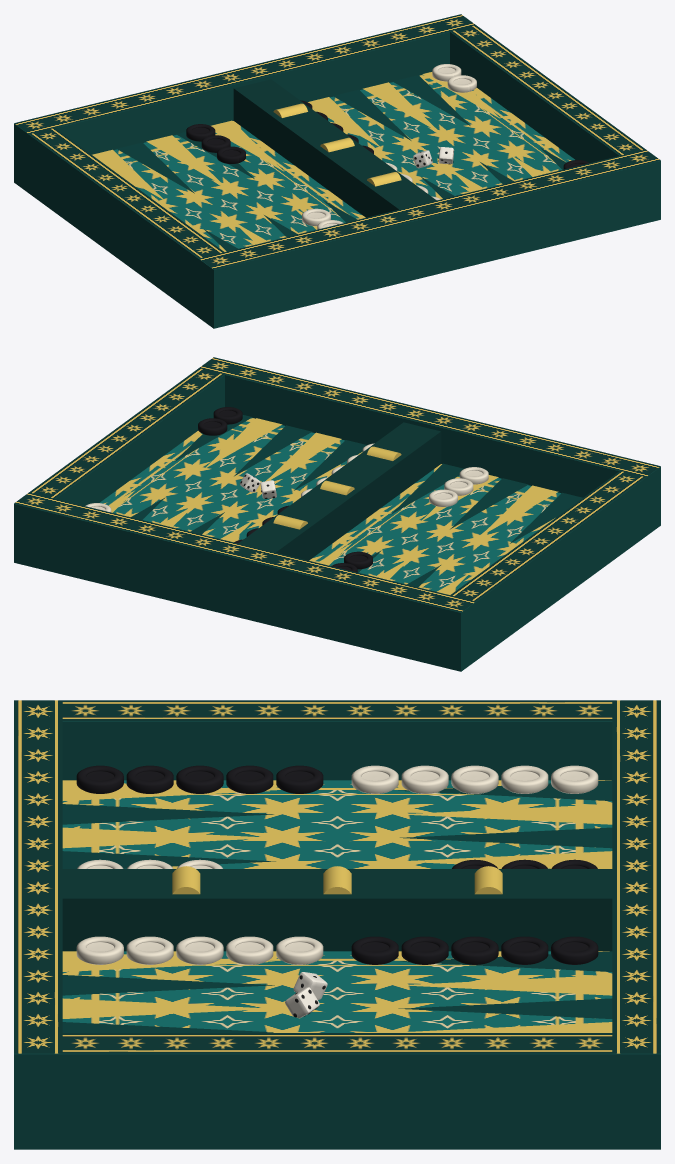
The model's file is fullset_arabic.glb.
3 renders of one model, top to bottom at view 1: azimuth 30°, elevation 25°; view 2: azimuth 150°, elevation 25°; view 3: azimuth 270°, elevation 25°, orthographic. The views are drawn at different scales.
Parts seen in each view (by area): view 1: wall_B, base, felt_R, felt_L, wall_T, bar, wall_L, rail_B, rail_T, wall_R, rail_L, rail_R (+8 smaller); view 2: wall_T, base, felt_R, felt_L, wall_B, bar, wall_L, rail_T, rail_B, wall_R, rail_L, rail_R (+8 smaller); view 3: wall_R, bar, felt_L, wall_L, felt_R, base, rail_T, rail_B, rail_L, rail_R, point_4, point_21 (+38 smaller).
Boxes of the visible parts, left/top/right/bottom form: wall_B: left=199, top=161, right=660, bottom=307; base: left=14, top=161, right=660, bottom=328; felt_R: left=312, top=75, right=574, bottom=199; felt_L: left=114, top=121, right=365, bottom=251; wall_T: left=14, top=31, right=449, bottom=171; bar: left=233, top=79, right=436, bottom=217; wall_L: left=15, top=124, right=239, bottom=307; rail_B: left=199, top=149, right=660, bottom=269; rail_T: left=14, top=14, right=475, bottom=133; wall_R: left=450, top=31, right=660, bottom=204; rail_L: left=29, top=128, right=224, bottom=258; rail_R: left=450, top=25, right=645, bottom=155; wall_T: left=14, top=504, right=475, bottom=649; base: left=14, top=504, right=660, bottom=671; felt_R: left=100, top=418, right=362, bottom=542; felt_L: left=309, top=464, right=560, bottom=594; wall_B: left=225, top=374, right=619, bottom=497; bar: left=238, top=422, right=441, bottom=560; wall_L: left=435, top=466, right=660, bottom=650; rail_T: left=14, top=492, right=475, bottom=612; rail_B: left=199, top=357, right=660, bottom=476; wall_R: left=14, top=374, right=224, bottom=545; rail_L: left=450, top=471, right=645, bottom=601; rail_R: left=29, top=368, right=224, bottom=498; wall_R: left=14, top=1053, right=660, bottom=1115; bar: left=62, top=869, right=612, bottom=951; felt_L: left=62, top=780, right=612, bottom=868; wall_L: left=62, top=721, right=612, bottom=780; felt_R: left=62, top=951, right=612, bottom=1032; base: left=14, top=1115, right=660, bottom=1149; rail_T: left=612, top=700, right=660, bottom=1053; rail_B: left=14, top=700, right=62, bottom=1053; rail_L: left=62, top=700, right=612, bottom=720; rail_R: left=62, top=1033, right=612, bottom=1053; point_4: left=62, top=998, right=276, bottom=1018; point_21: left=398, top=998, right=612, bottom=1018.
Size of the model in its own units: 0.62 by 0.079 by 0.48.
44 materials, 5 textured.
